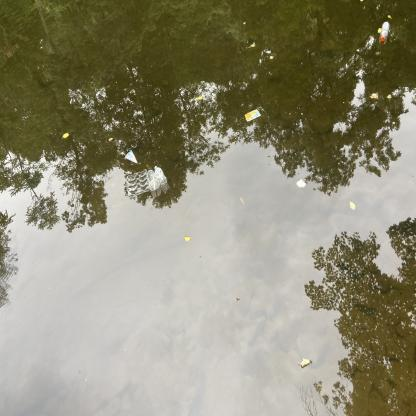trash: (126, 167, 152, 199), (374, 18, 392, 47), (146, 166, 162, 194), (242, 107, 264, 126), (153, 164, 169, 188), (123, 148, 140, 166), (295, 176, 308, 190)
